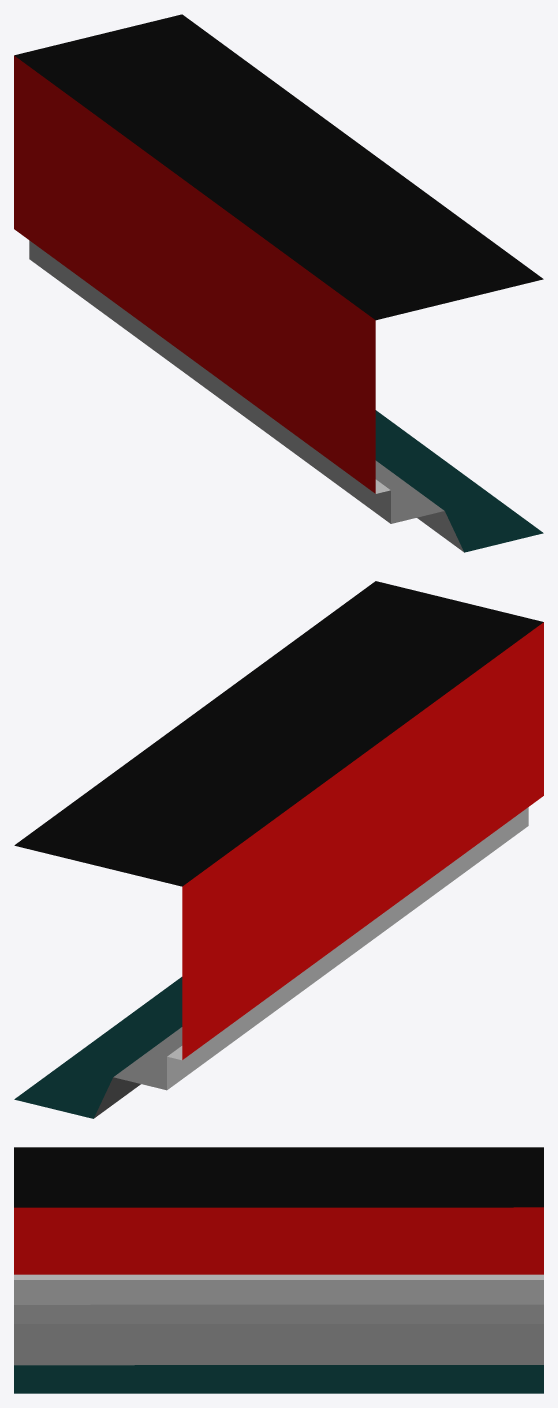
Rendered from recta_larga.fbx.
3 views of the same model, one above another, from view 1: azimuth 30°, elevation 25°; view 2: azimuth 150°, elevation 25°; view 3: azimuth 270°, elevation 25° (orthographic). The views are drawn at different scales.
Parts seen in each view (by area): view 1: Pieza_Recta_Larga; view 2: Pieza_Recta_Larga; view 3: Pieza_Recta_Larga.
Part boxes in pixels (x1=…): Pieza_Recta_Larga: x1=14, y1=14, x2=543, y2=552; Pieza_Recta_Larga: x1=14, y1=581, x2=543, y2=1118; Pieza_Recta_Larga: x1=14, y1=1147, x2=543, y2=1393.
Size of the model in its own units: 26.19 by 37.8 by 97.53.
